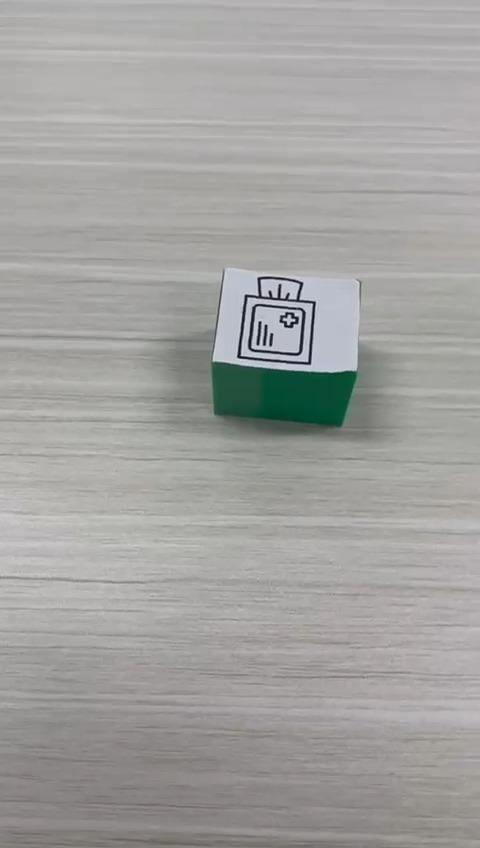Gauze: (209, 265, 361, 427)
